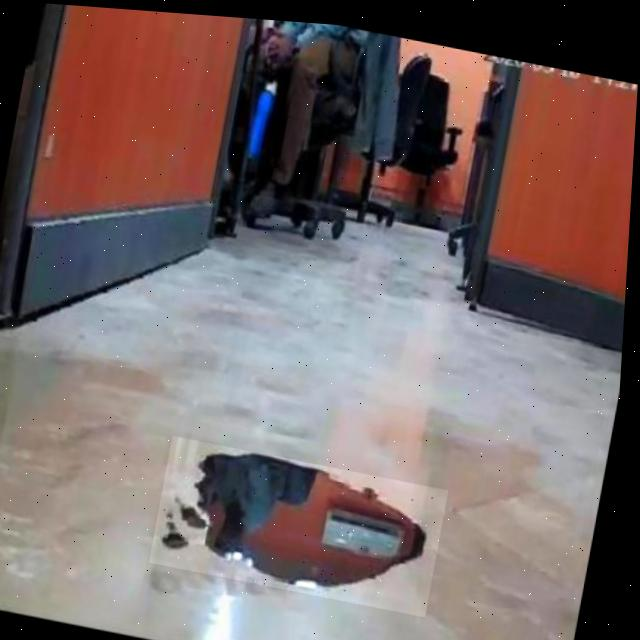spillage: (156, 444, 442, 588)
